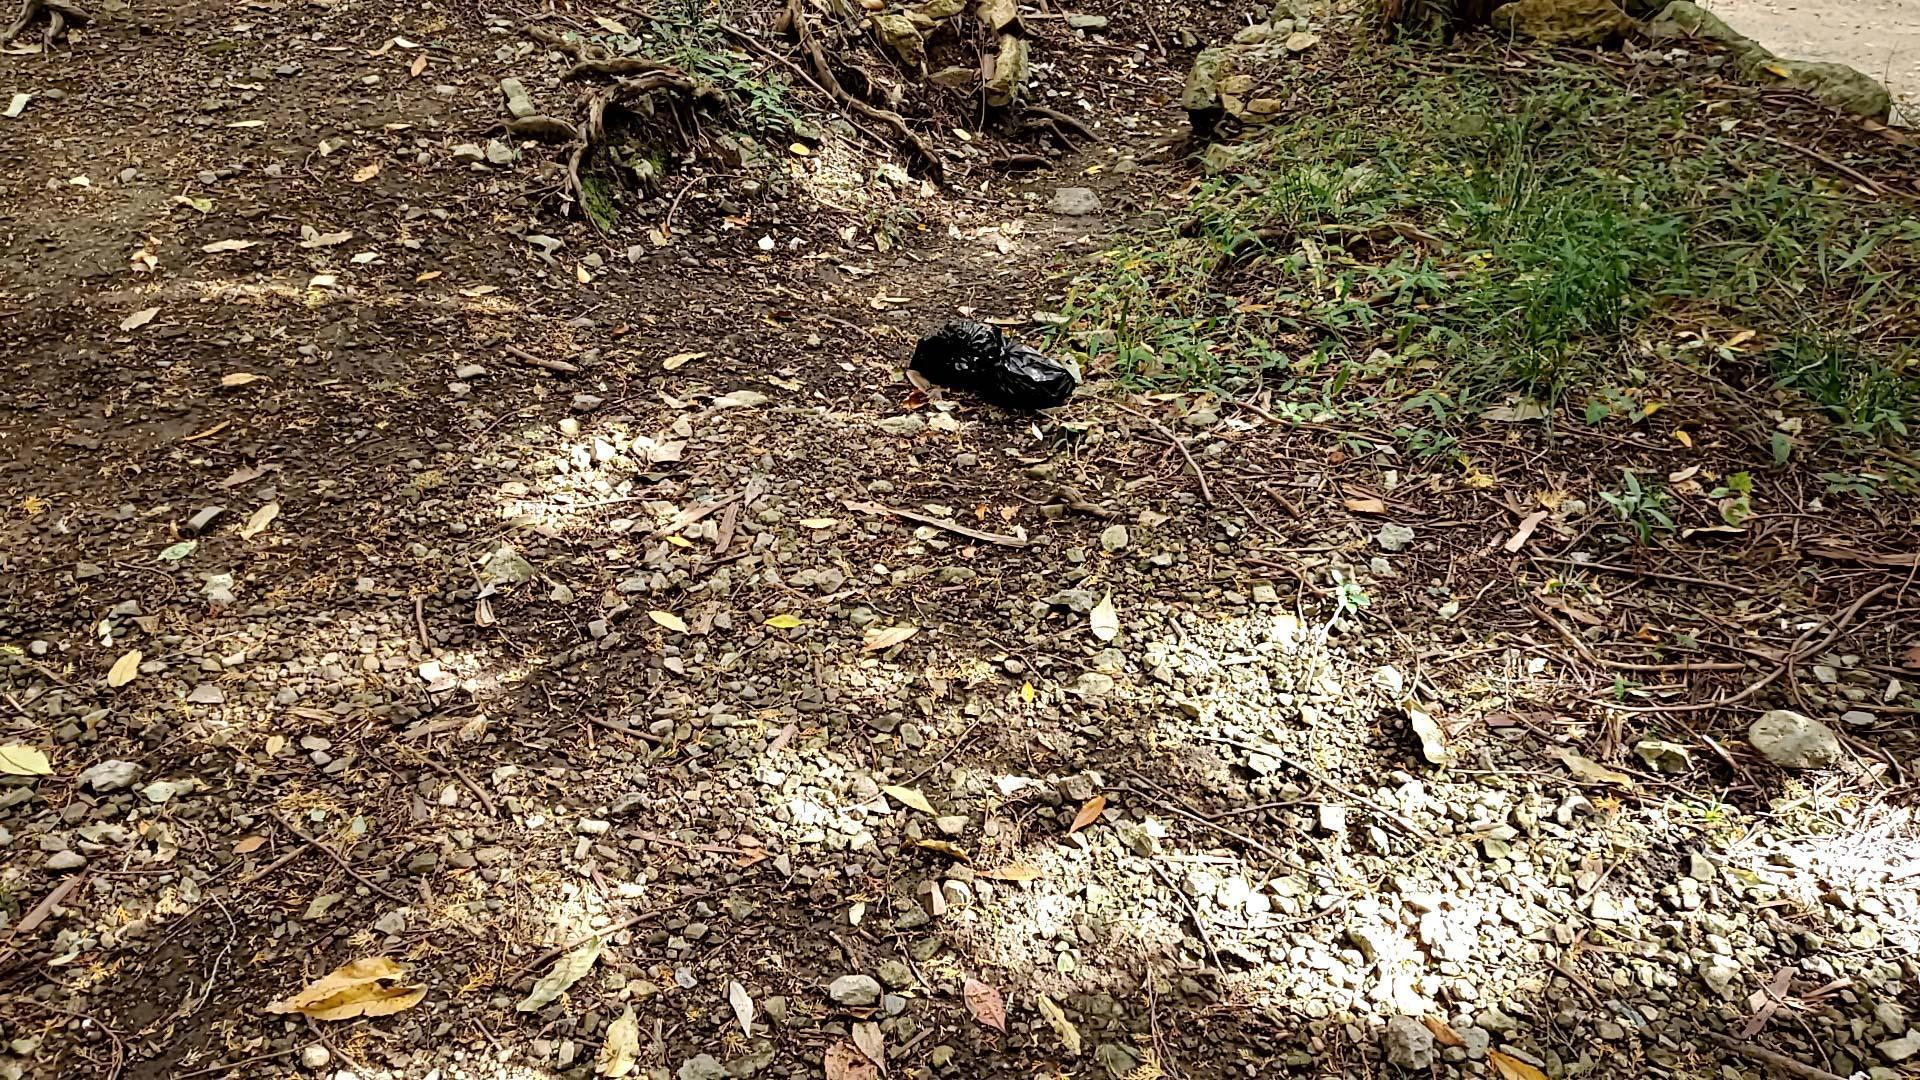black_bag: (899, 311, 1087, 430)
